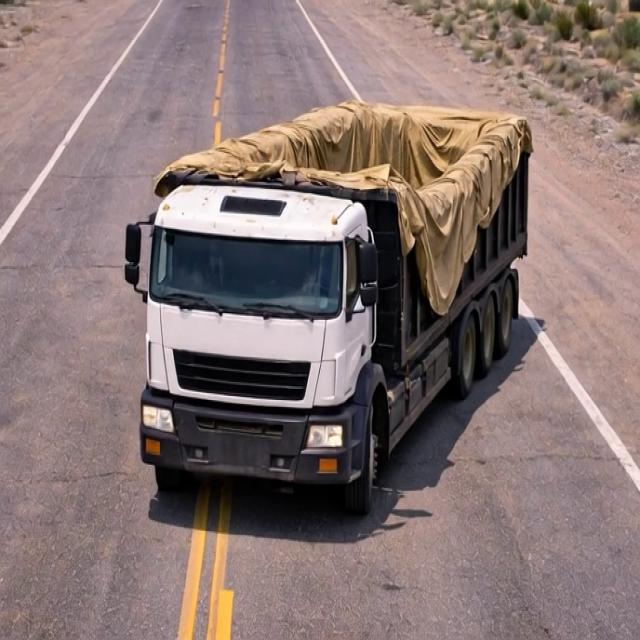trailer: (157, 94, 528, 201)
truck: (119, 87, 545, 497)
